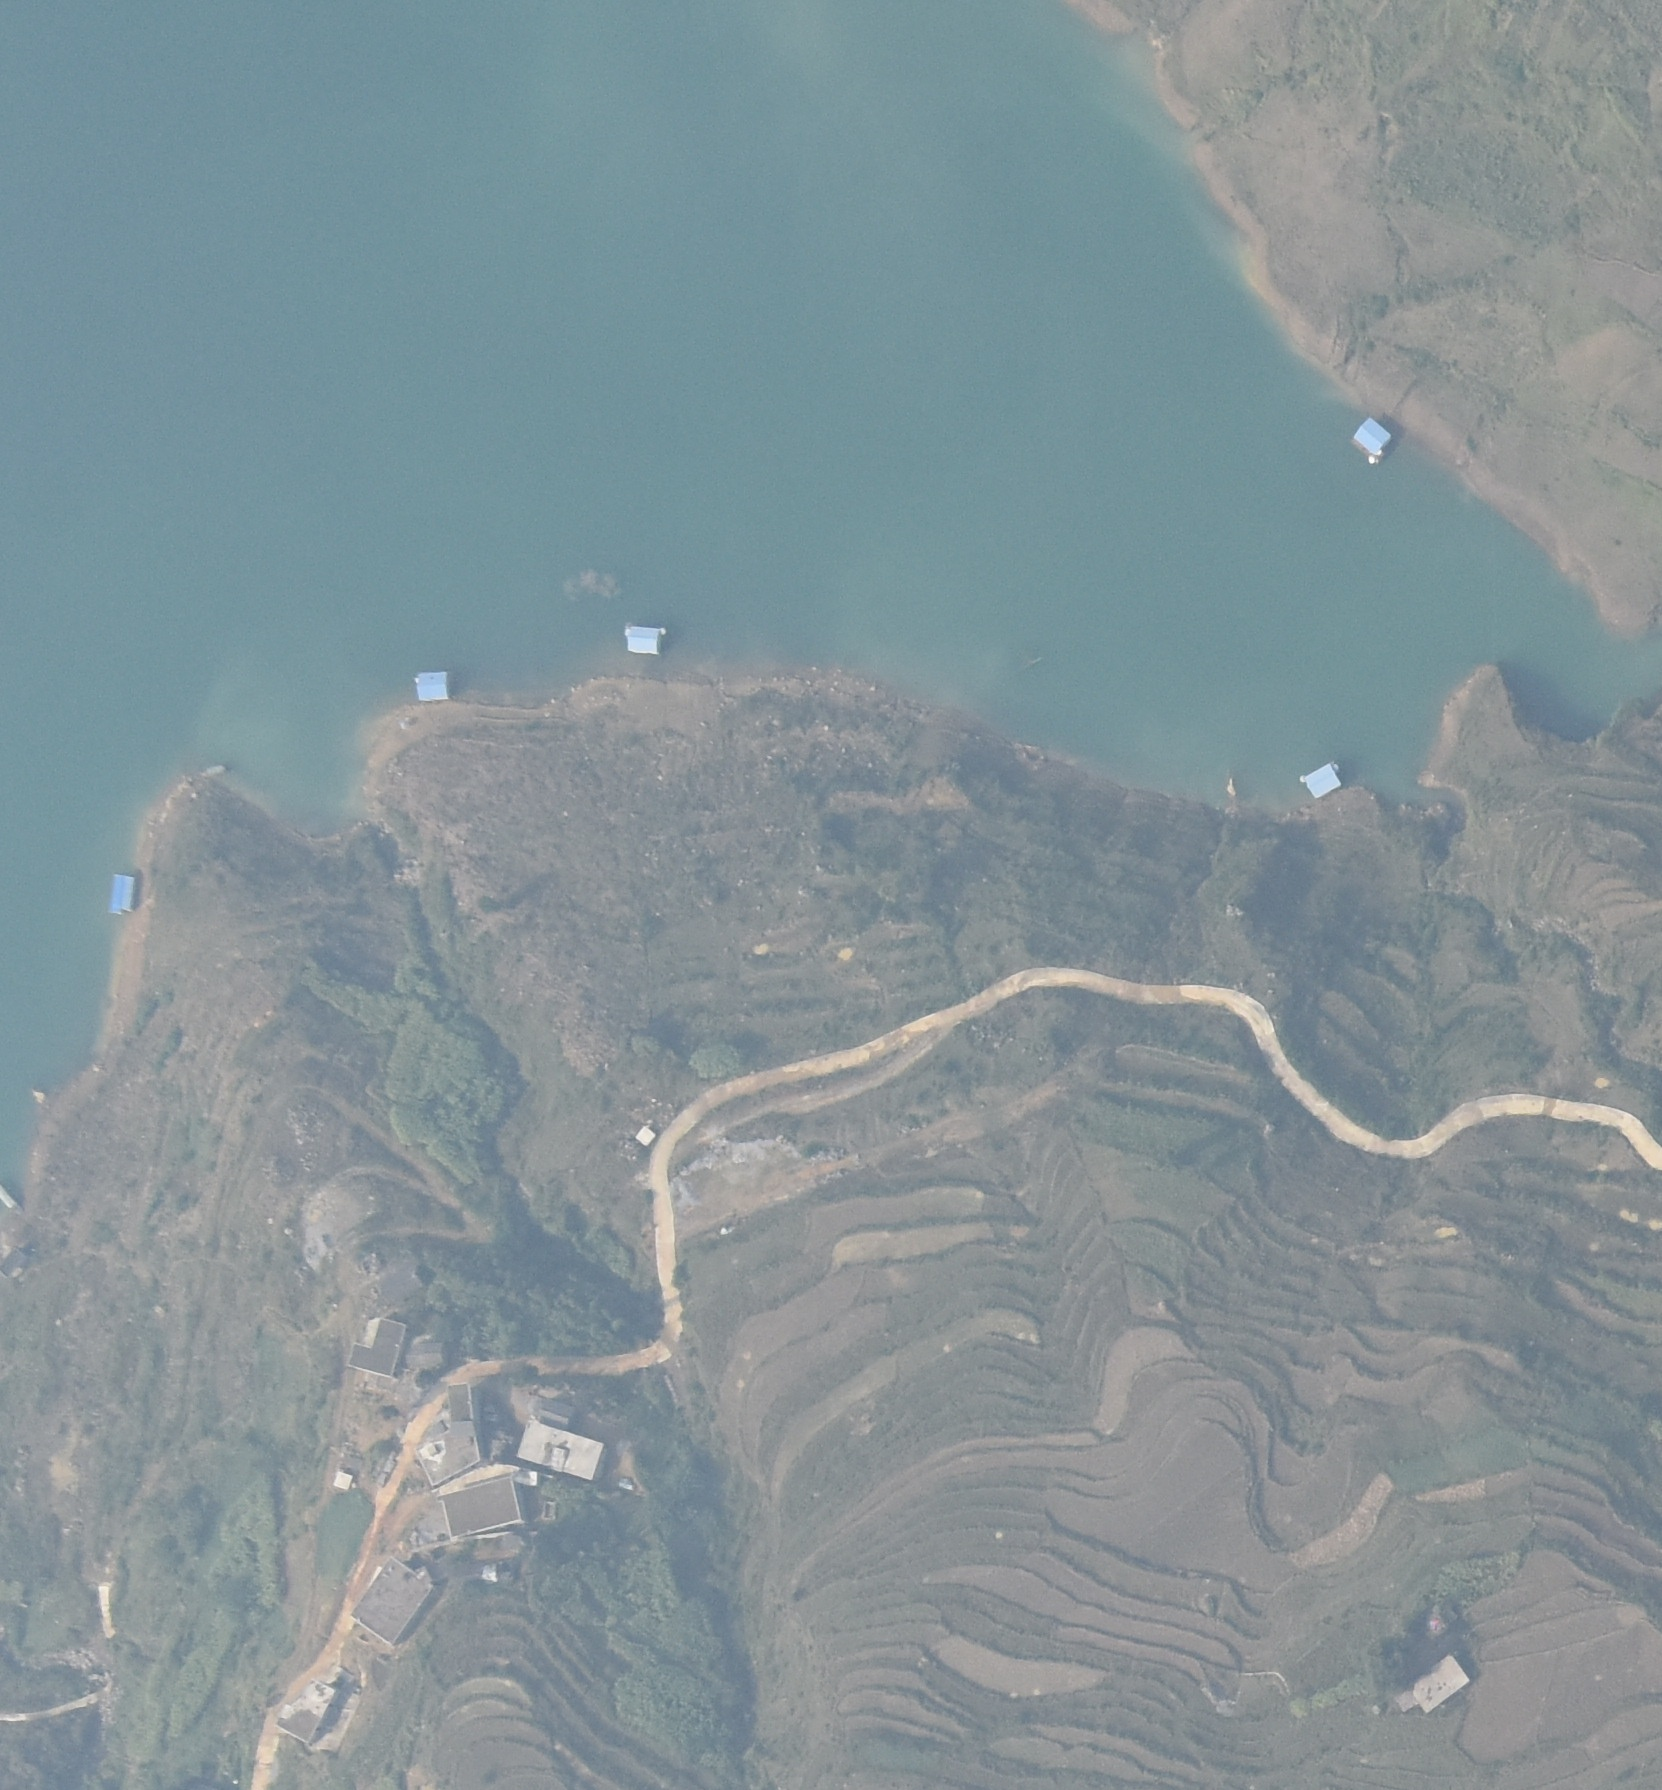building: (409, 1382, 509, 1486), (352, 1547, 440, 1646), (516, 1392, 612, 1481), (427, 1476, 528, 1549), (342, 1314, 413, 1385), (273, 1673, 336, 1747), (1410, 1655, 1472, 1718), (634, 1119, 662, 1154), (330, 1465, 359, 1492)
prefabricated-house: (1334, 422, 1408, 458), (620, 611, 667, 660), (408, 664, 457, 707), (104, 873, 143, 921), (1298, 764, 1348, 796)
